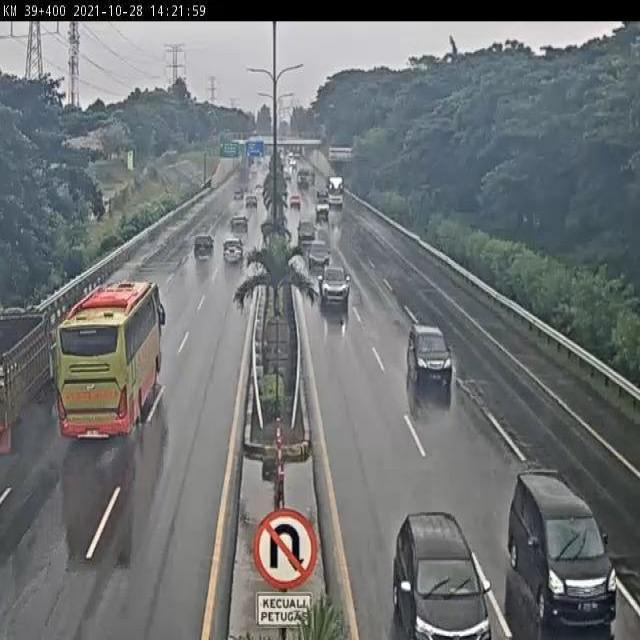car: (506, 472, 617, 627), (319, 266, 352, 306), (192, 231, 217, 264), (309, 239, 332, 272), (221, 236, 245, 265)
truck: (56, 279, 172, 444), (0, 312, 56, 440)
